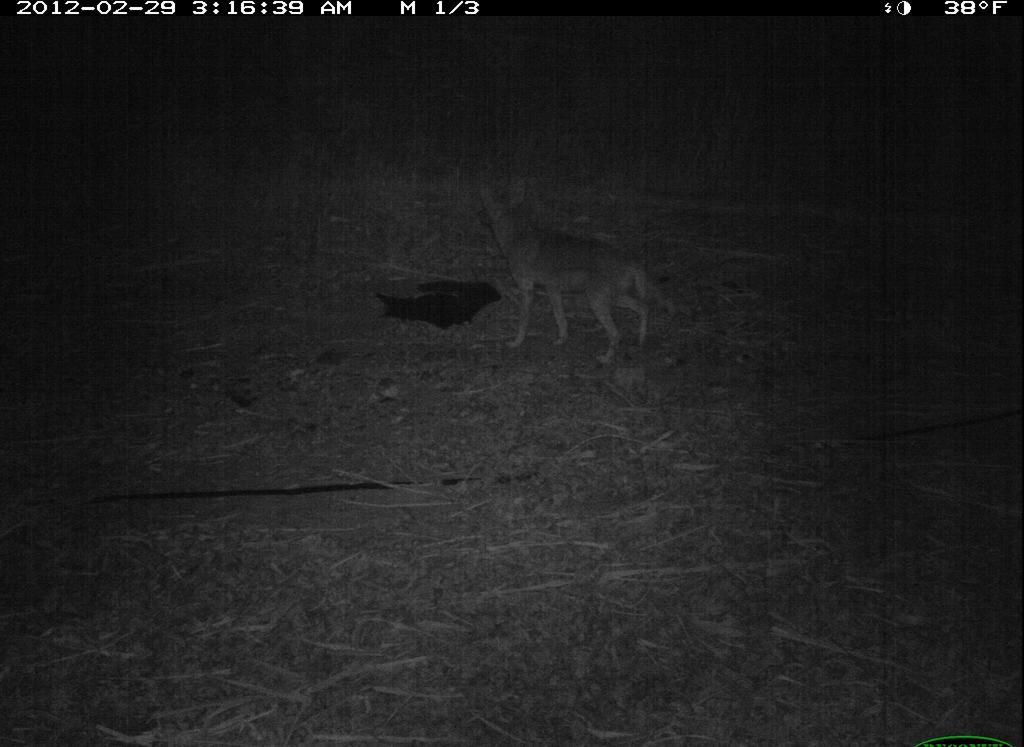coyote: (481, 195, 696, 381)
